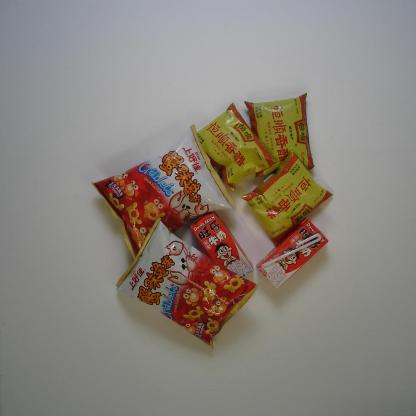Milk: (255, 218, 329, 289), (190, 211, 255, 281)
Puffed Food: (91, 122, 236, 261), (116, 217, 259, 351)
Seasoner: (241, 150, 334, 246), (195, 101, 277, 192), (244, 92, 315, 178)
